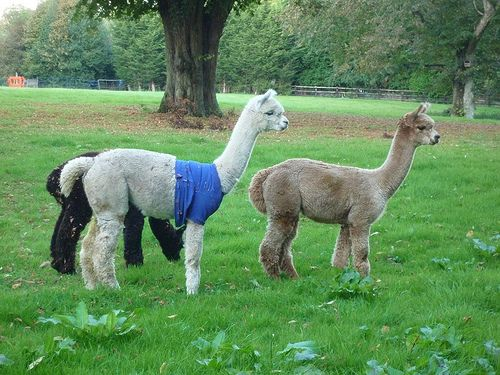alpaca: (60, 88, 289, 295), (248, 101, 441, 284), (44, 150, 184, 275)
